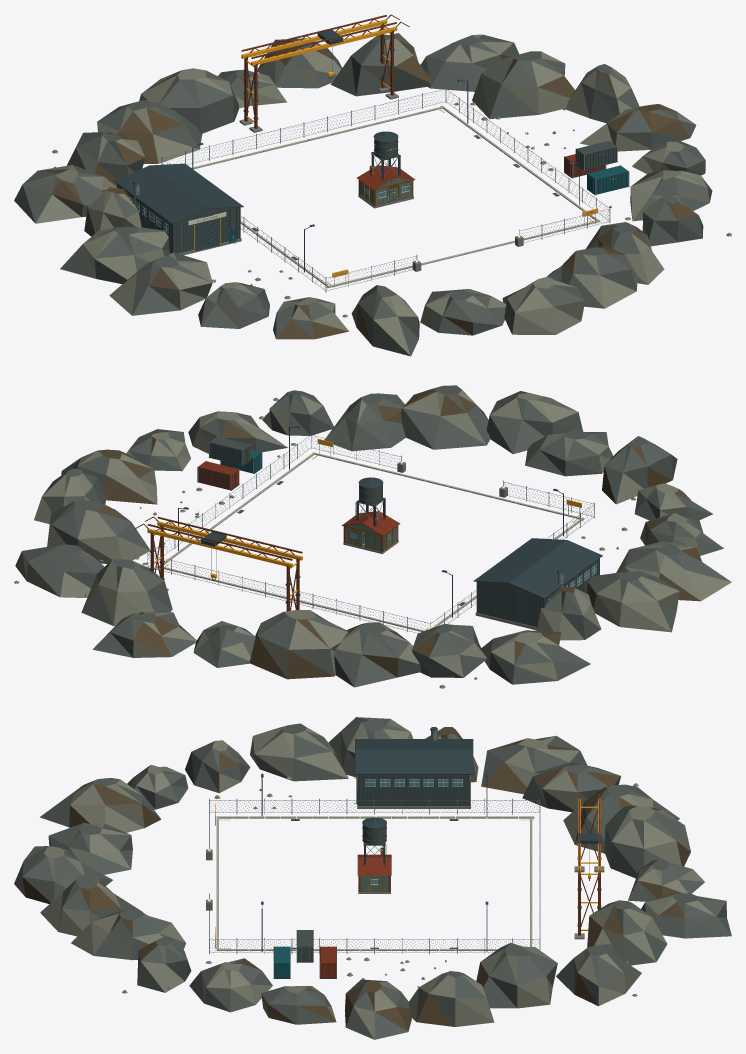
Rendered from brudpunkt.glb.
3 views of the same model, one above another, from view 1: azimuth 30°, elevation 25°; view 2: azimuth 150°, elevation 25°; view 3: azimuth 270°, elevation 25° (orthographic).
Visible parts, largest first — view 1: omgivelser_geometri; view 2: omgivelser_geometri; view 3: omgivelser_geometri.
Boxes of the visible parts, x1,y1,x2,y2 form: omgivelser_geometri: (14, 14, 731, 356); omgivelser_geometri: (14, 385, 731, 688); omgivelser_geometri: (14, 717, 731, 1039).
Size of the model in its own units: 110 by 13.09 by 109.
